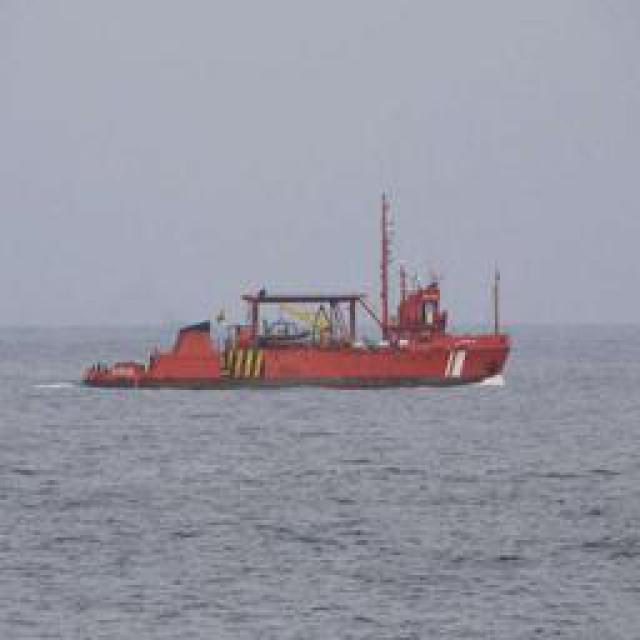Ship: (83, 251, 518, 394)
